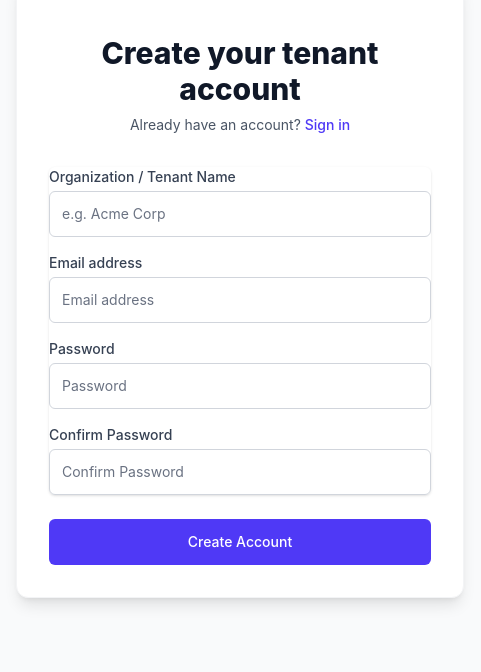
Test: SignupPage integration › should display an error if passwords do not match
This screenshot has width=481, height=672.
Type "Test Org" into the field labelled "Organization / Tenant Name" at point(240, 214), box [49, 191, 431, 237]
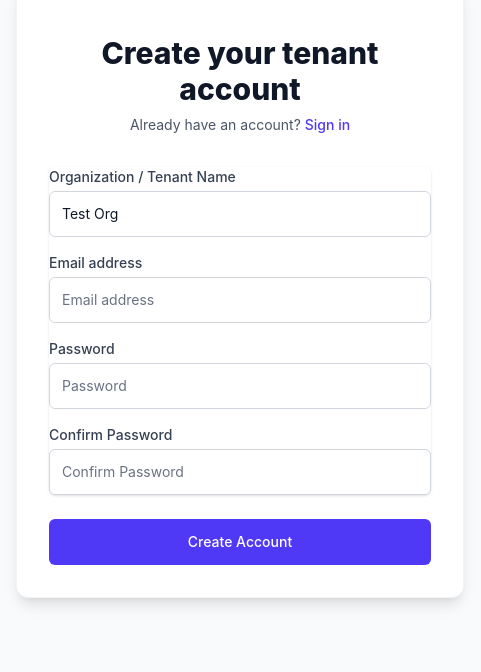
Type "test@example.com" into the field labelled "Email address" at point(240, 300), box [49, 277, 431, 323]
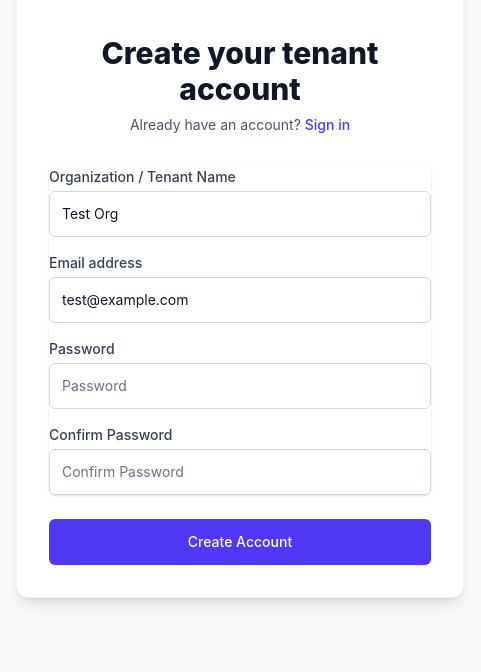
Type "password123" into the password field labelled "Password" at point(240, 386), box [49, 363, 431, 409]
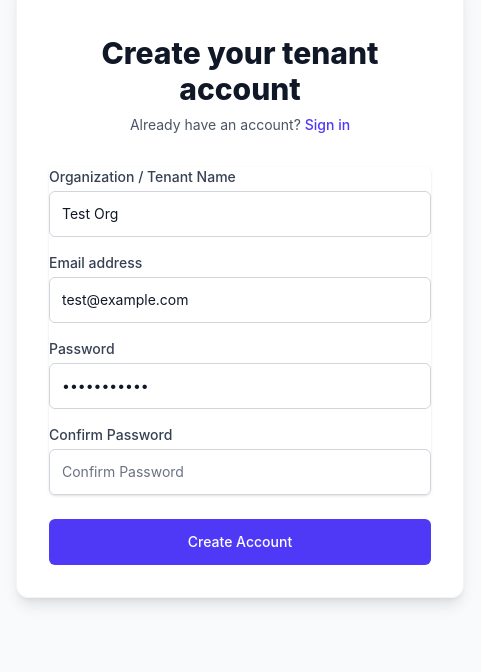
Type "differentpassword" into the password field labelled "Confirm Password" at point(240, 472), box [49, 449, 431, 495]
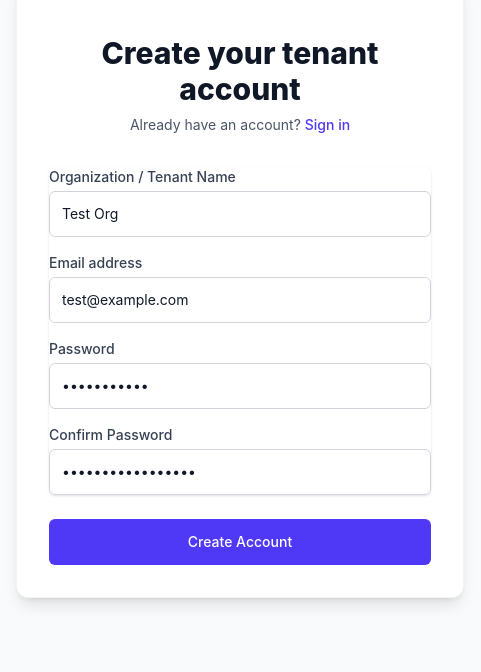
Click the button "Create Account" at point(240, 542), box [49, 519, 431, 565]
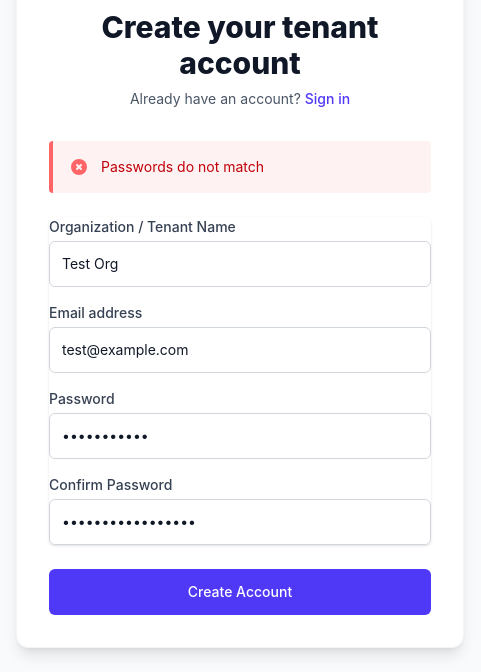
Now the text "Passwords do not match" is shown, box [101, 157, 264, 177]
